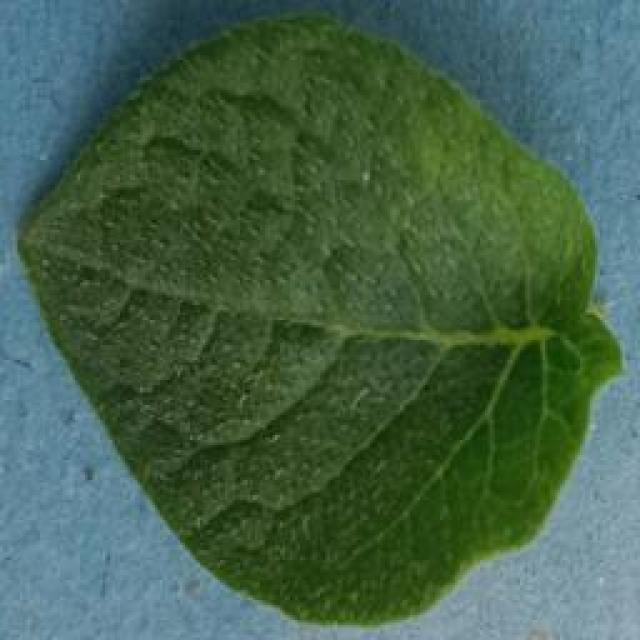Potato_Healthy: (8, 4, 636, 634)
